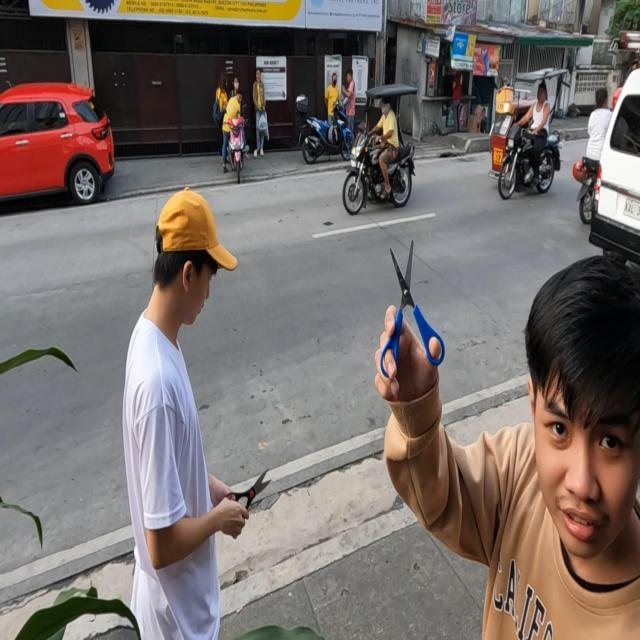scissor: (379, 240, 446, 379), (223, 468, 272, 530)
